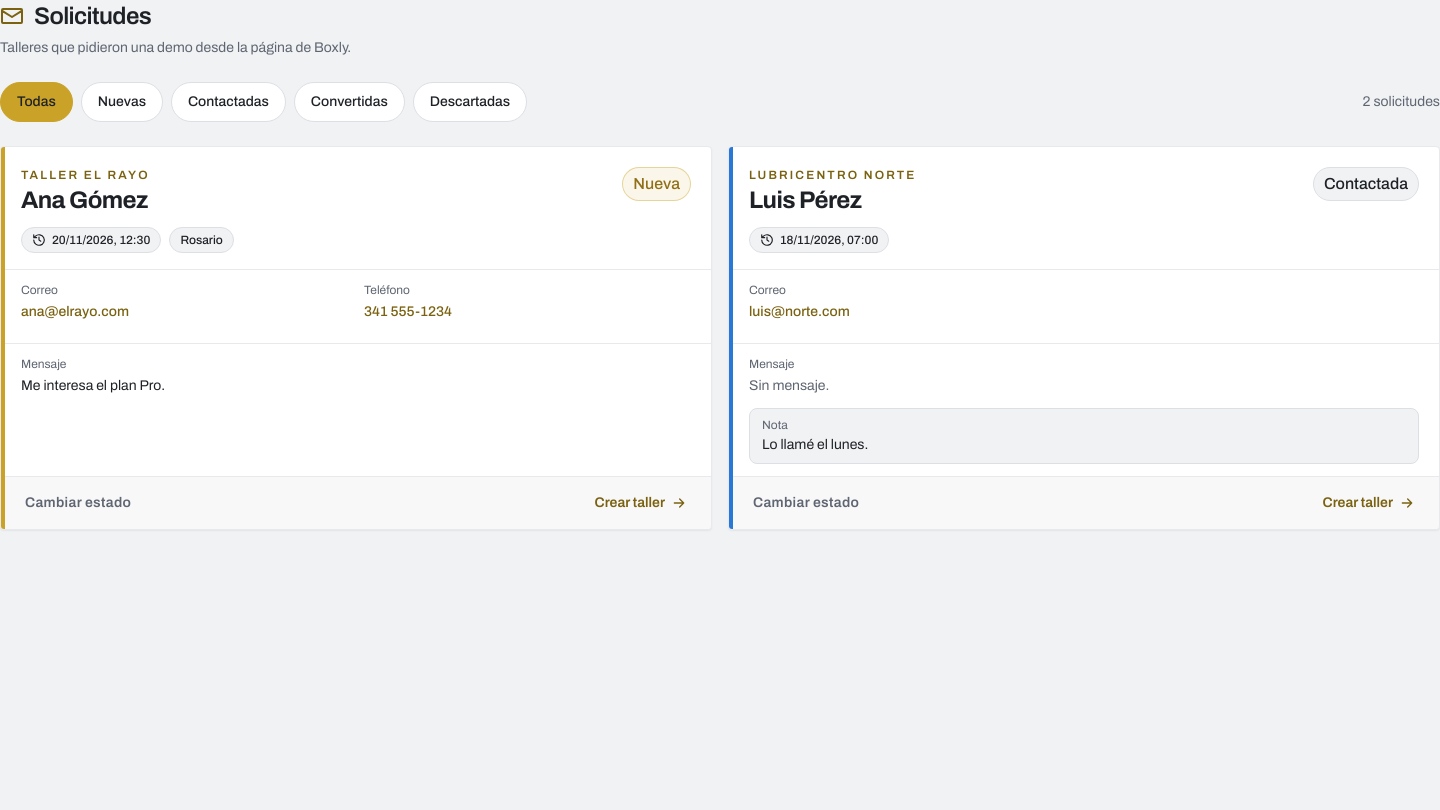
Scenario: PlataformaSolicitudes › si el cambio falla, el modal queda abierto con el error
The width and height of the screenshot is (1440, 810).
Expected: the heading "Ana Gómez" is shown, [21,185,150,215]
Click the button "Cambiar estado" below "Me interesa el plan Pro.": click(78, 503) [13,485,143,521]
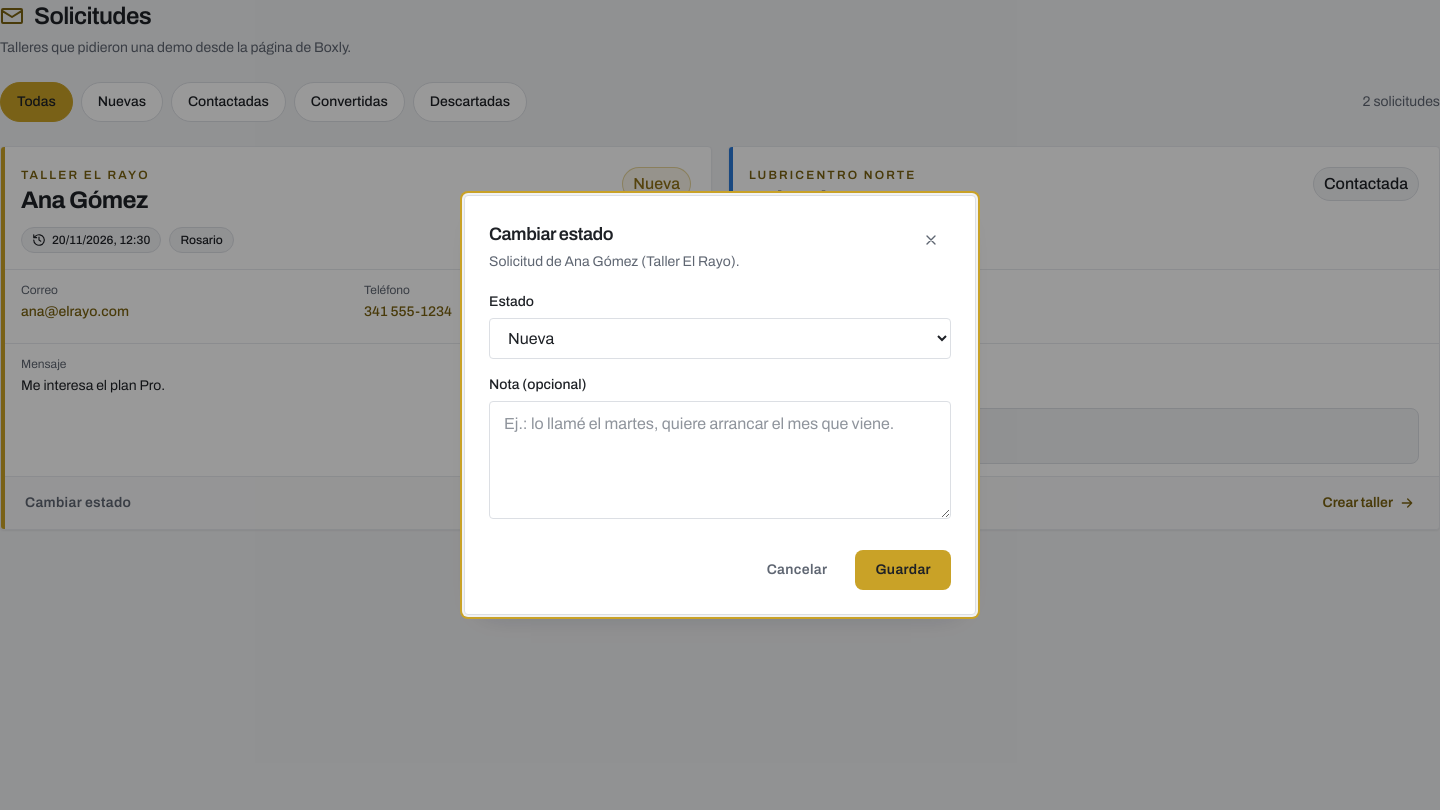
Click the button "Guardar": click(903, 570) [855,550,951,590]
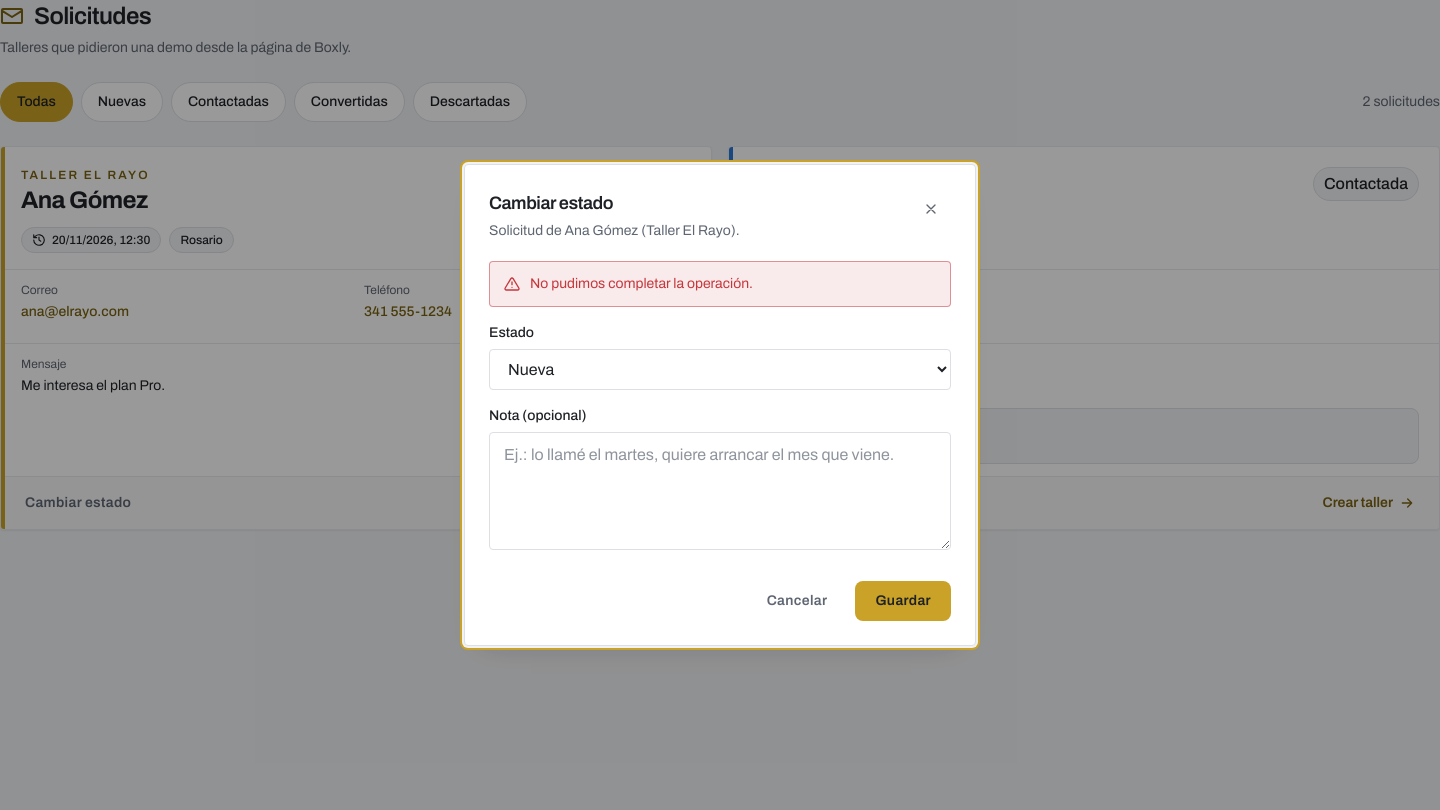
Expected: the message reads "No pudimos completar la operación.", [530,276,753,291]
